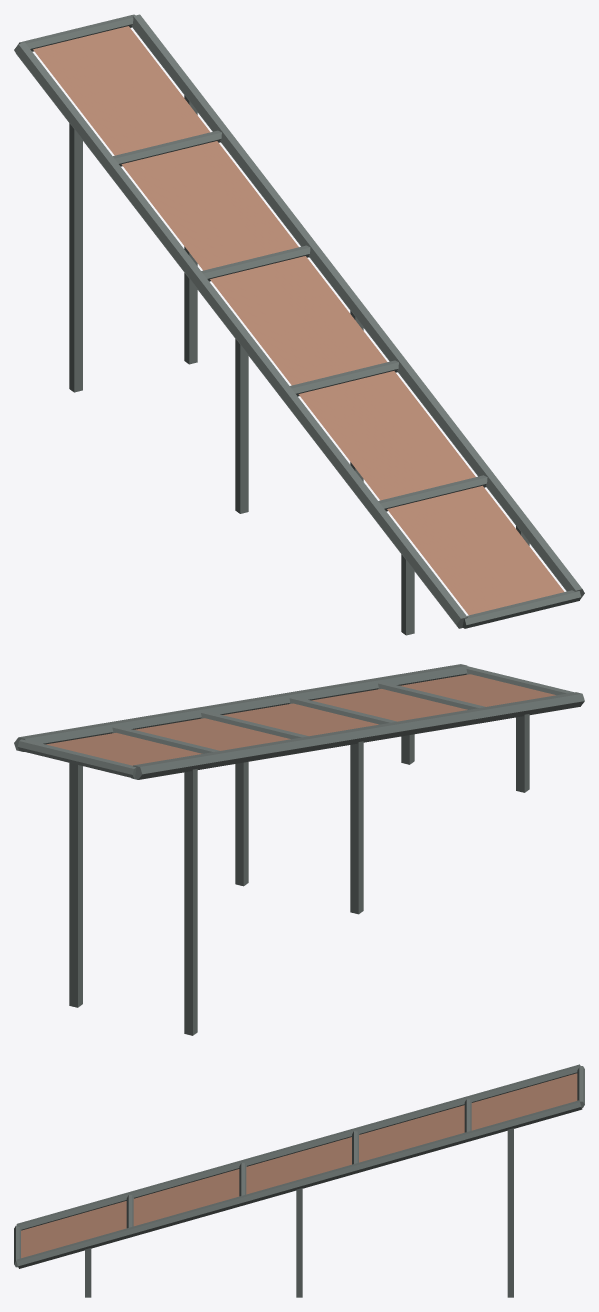
3 renders of one model, top to bottom at view 1: azimuth 30°, elevation 25°; view 2: azimuth 150°, elevation 25°; view 3: azimuth 270°, elevation 25°, orthographic. The views are drawn at different scales.
Bounding box in the file's own units: 2.68 × 6.12 × 16.22.
